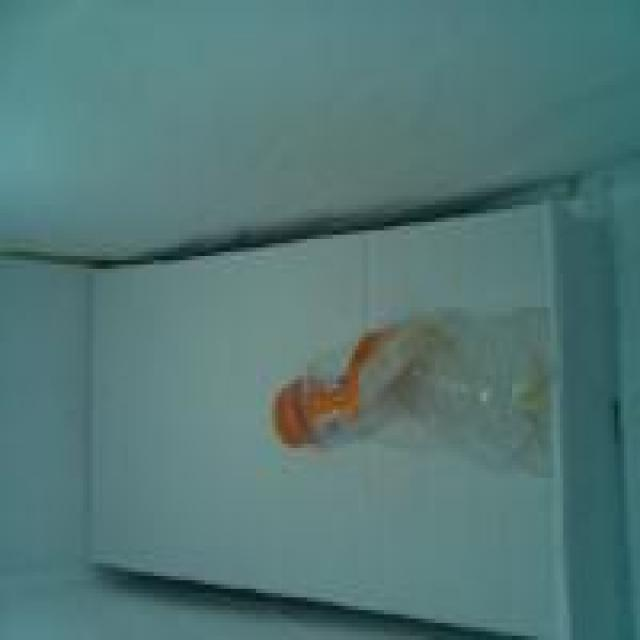bottle: (236, 291, 586, 493)
